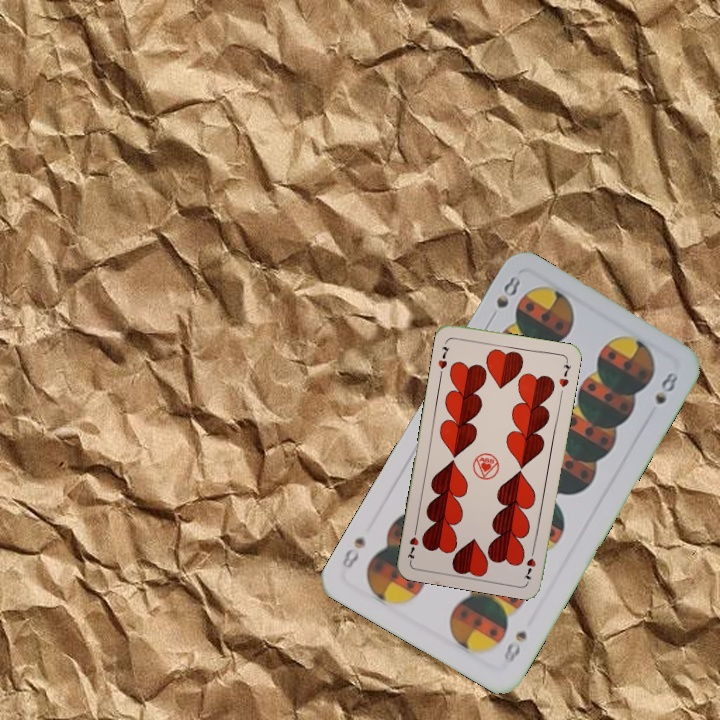H7: (520, 544, 538, 582), (434, 342, 452, 378)
S8: (484, 271, 523, 325), (500, 627, 530, 667)
